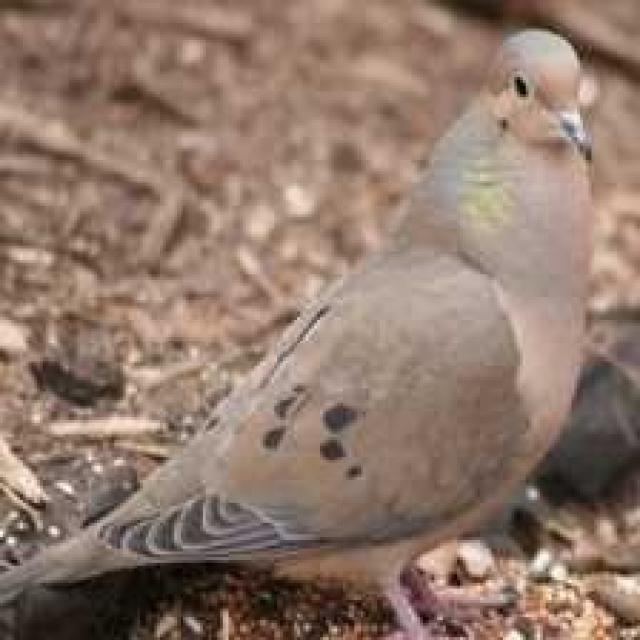bird: (0, 4, 611, 640)
